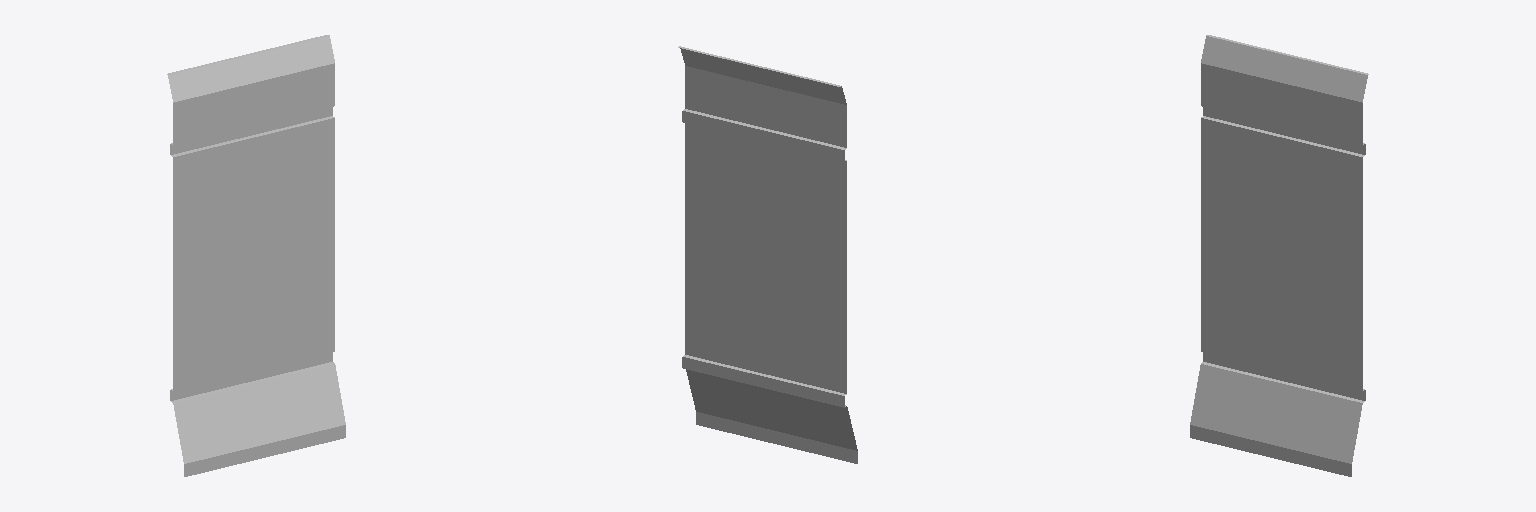
File: skirting-1.obj
The picture shows the model from 3 angles: view 1: azimuth 30°, elevation 25°; view 2: azimuth 150°, elevation 25°; view 3: azimuth 330°, elevation 25°; orthographic projection.
Parts seen in each view (by area): view 1: SMB_Straignt; view 2: SMB_Straignt; view 3: SMB_Straignt.
Boxes of the visible parts, box(x1,y1,x2,y2) form: SMB_Straignt: box(167, 35, 345, 476); SMB_Straignt: box(678, 46, 857, 463); SMB_Straignt: box(1190, 35, 1368, 476).
Bounding box in the file's own units: 0.4863 × 1.12 × 0.0936.